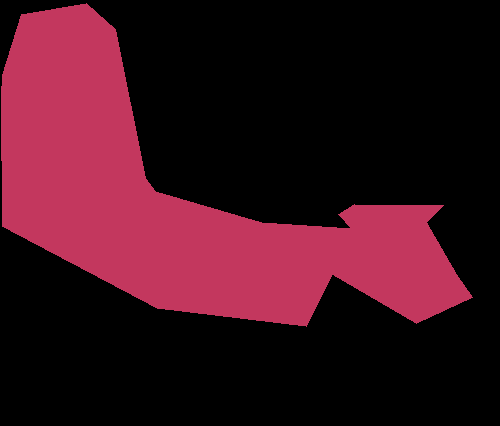Airplane: (1, 3, 472, 327)
